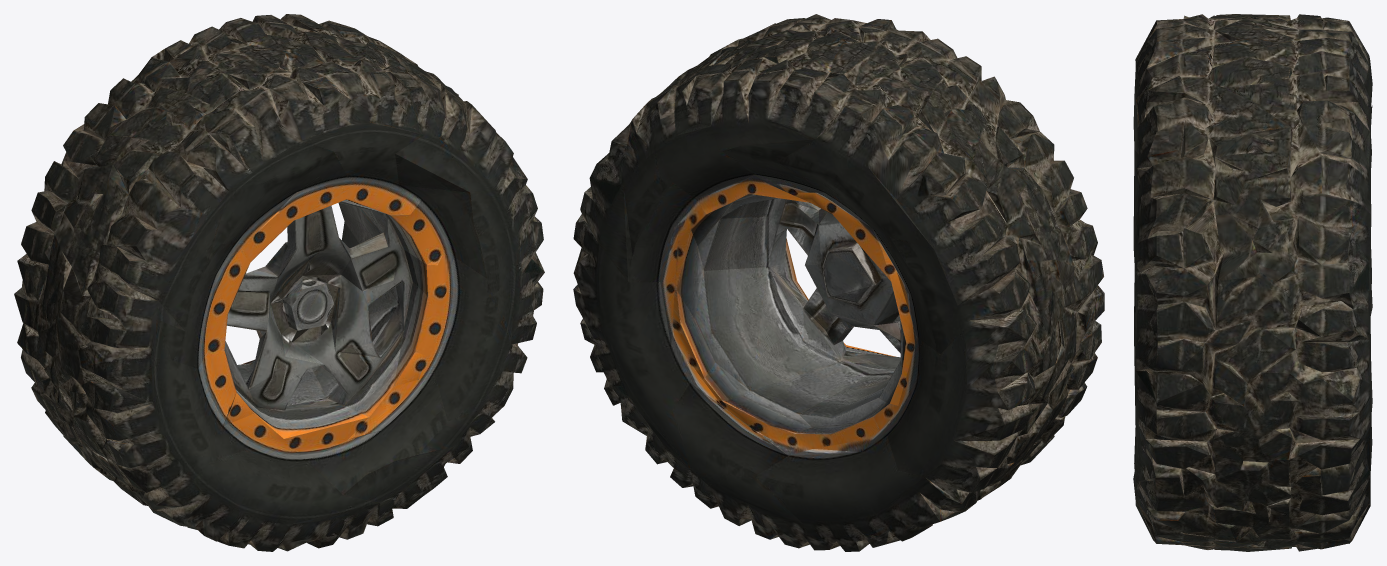
File: rim6.glb
The picture shows the model from 3 angles, left to right: view 1: azimuth 30°, elevation 25°; view 2: azimuth 150°, elevation 25°; view 3: azimuth 270°, elevation 25°; orthographic projection. The views are drawn at different scales.
Bounding box in the file's own units: 1.89 × 1.89 × 0.8438.
1 material, 1 textured.
